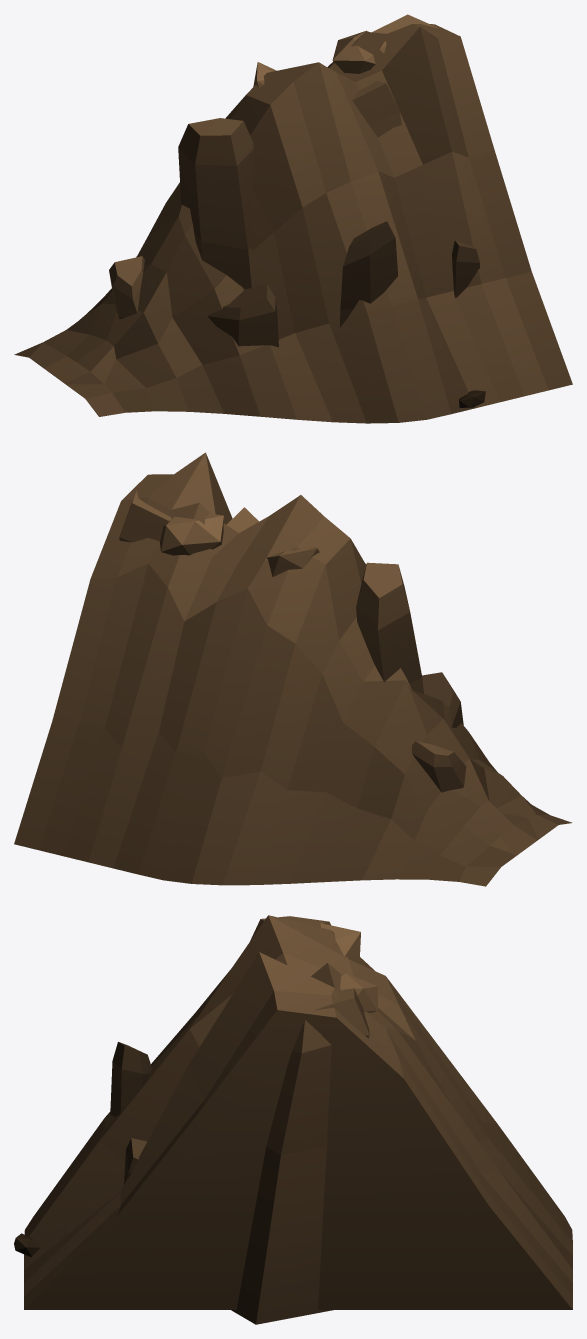
File: cliff-entrance.glb
The picture shows the model from 3 angles, top to bottom: view 1: azimuth 30°, elevation 25°; view 2: azimuth 150°, elevation 25°; view 3: azimuth 270°, elevation 25°; orthographic projection. The views are drawn at different scales.
Visible parts, largest first — view 1: cliff-entrance; view 2: cliff-entrance; view 3: cliff-entrance.
Boxes of the visible parts, box(x1,y1,x2,y2) form: cliff-entrance: box(14, 14, 572, 423); cliff-entrance: box(14, 452, 572, 886); cliff-entrance: box(14, 915, 572, 1324).
Size of the model in its own units: 3.16 by 2.18 by 3.31.
